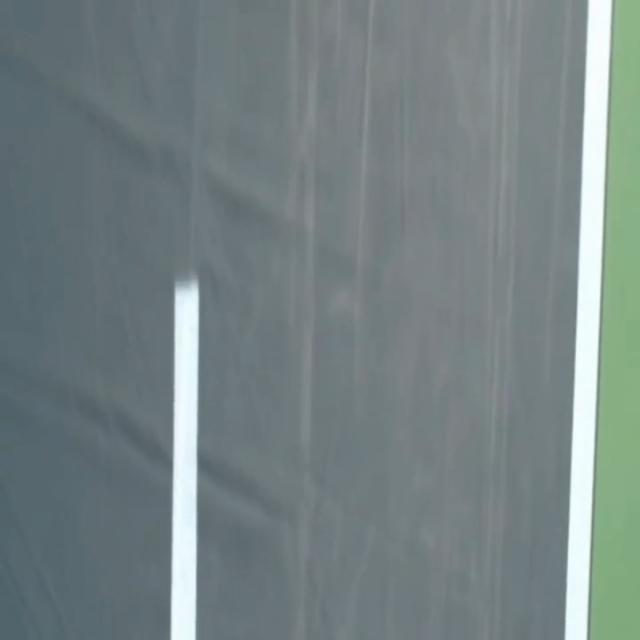center: (170, 275, 199, 639)
right: (564, 0, 612, 639)
